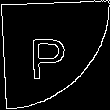P_N: (35, 28, 75, 82)
